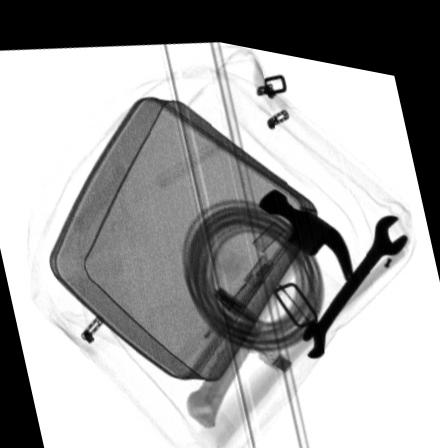Hammer: (187, 176, 352, 419)
Wrench: (303, 198, 409, 345)
